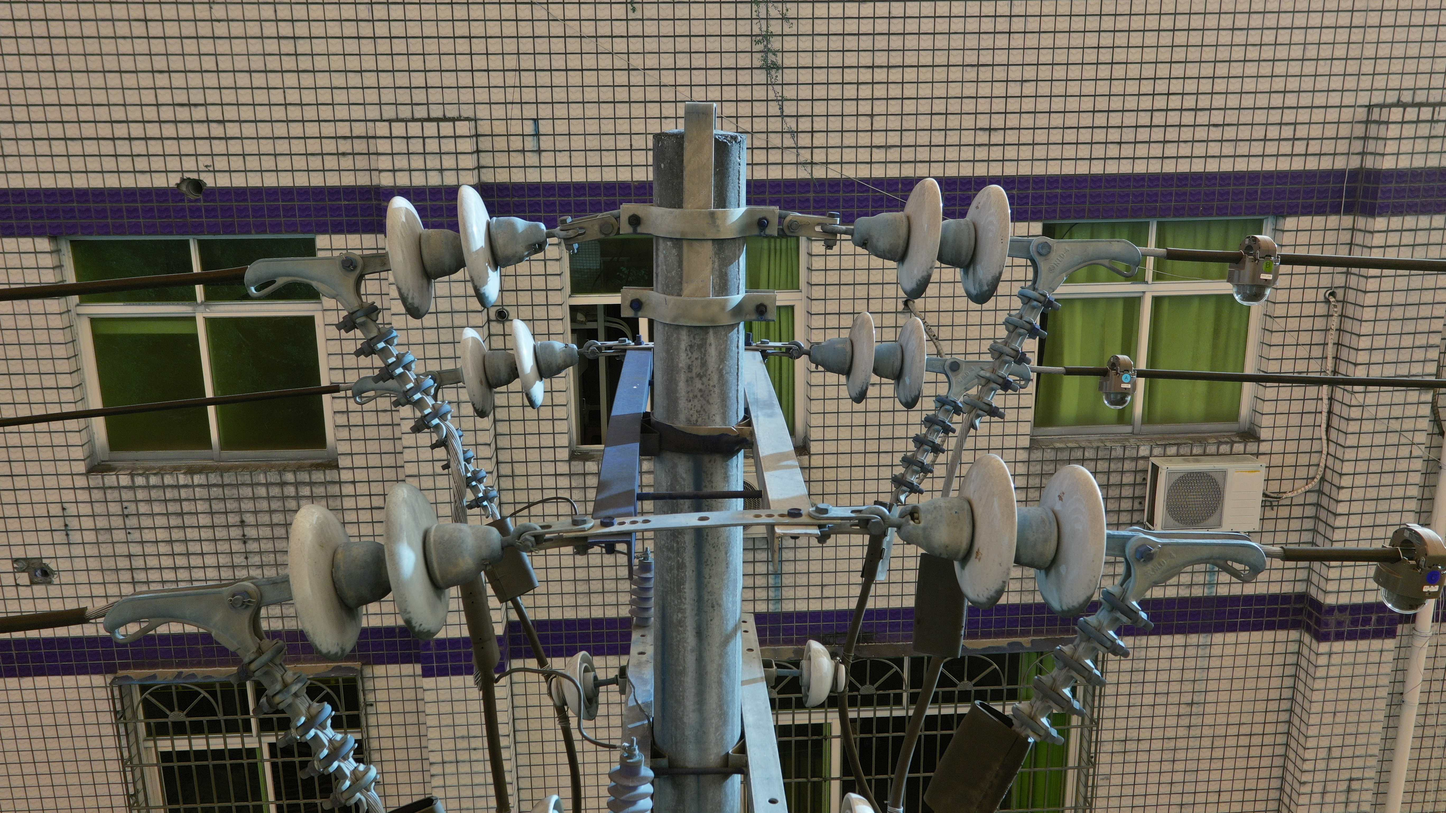severe_soiling_no_discharge_whole: (287, 477, 509, 668), (895, 453, 1109, 619), (383, 185, 548, 320), (848, 175, 1011, 305), (455, 317, 580, 417), (808, 311, 926, 409)
